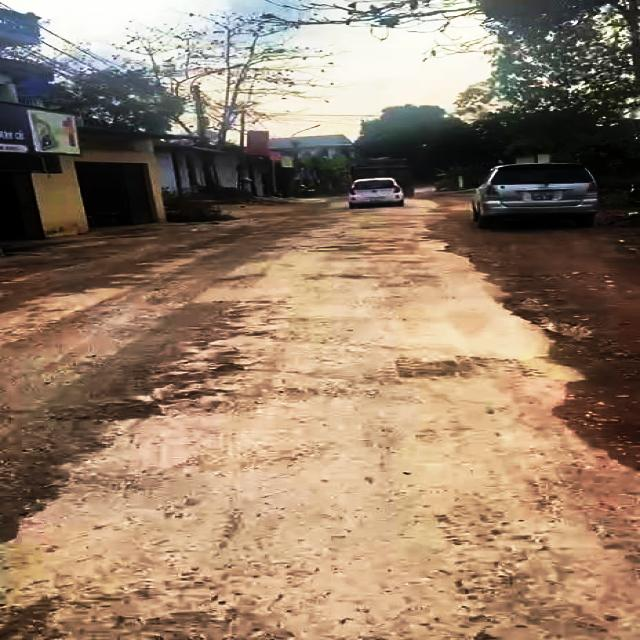pothole: (95, 360, 239, 418)
